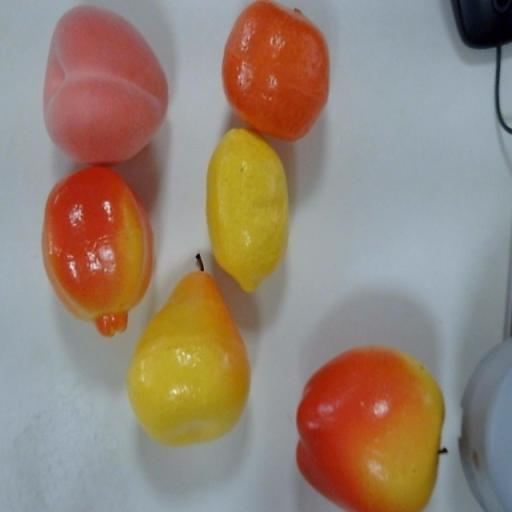Ripe: (292, 342, 453, 512), (123, 255, 257, 457), (40, 4, 174, 167), (39, 166, 157, 338), (220, 2, 336, 150), (204, 124, 294, 302)
